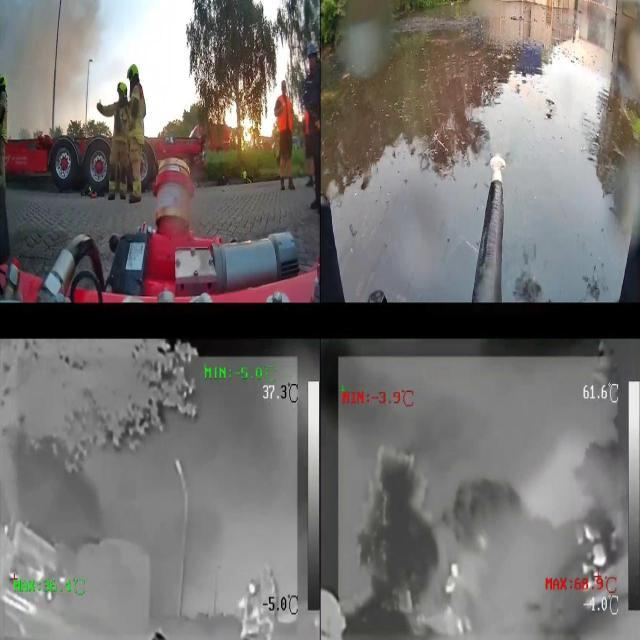Smoke: (0, 0, 99, 137)
